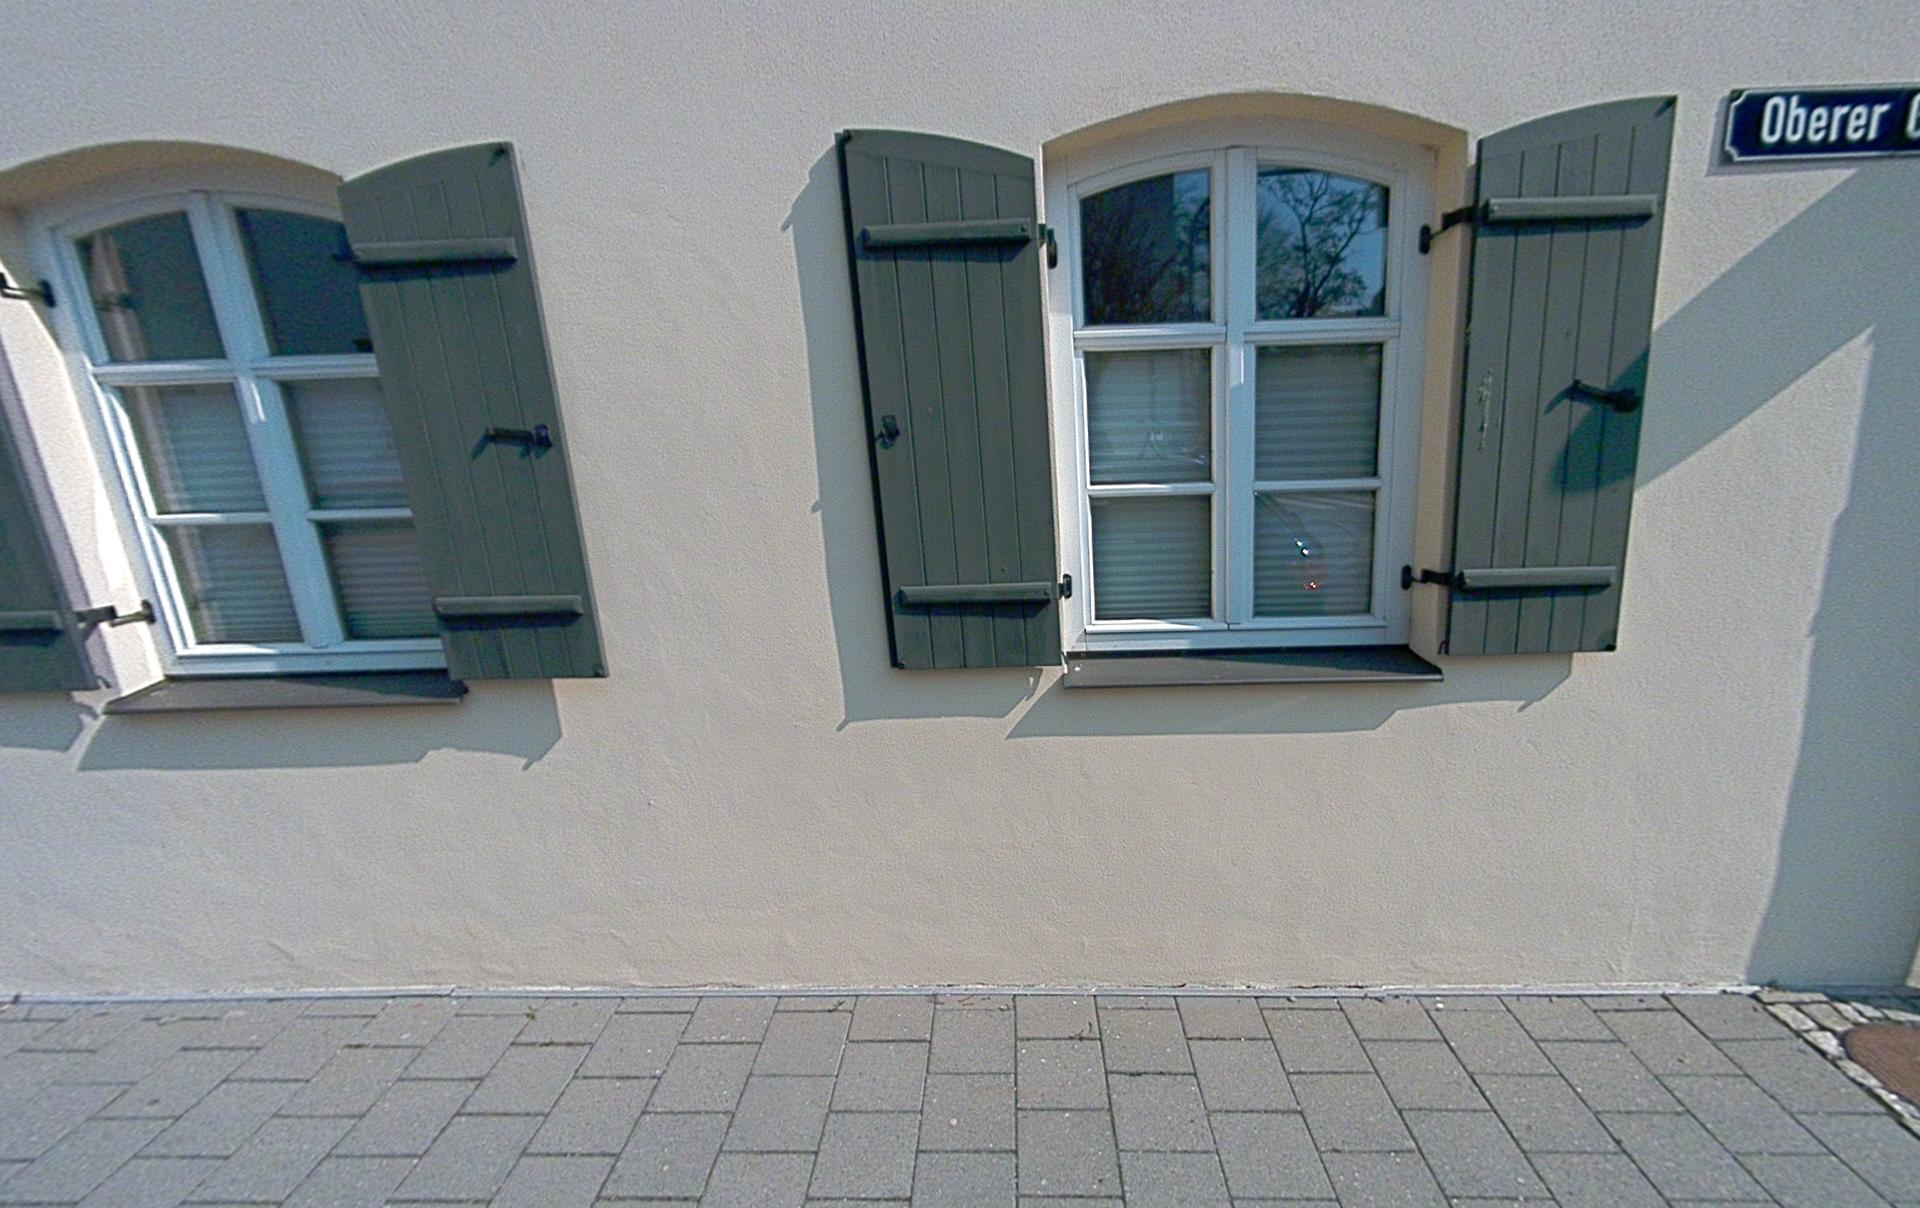traffic sign: (1717, 82, 1919, 168)
